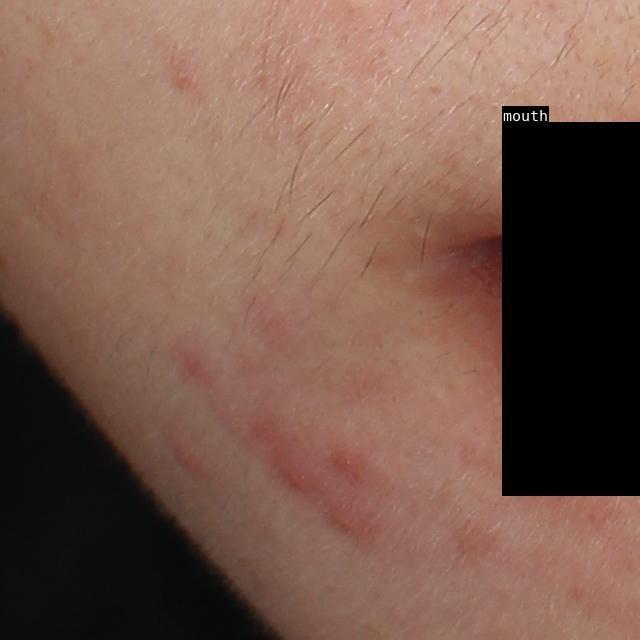atrophic_scar: (424, 81, 450, 100)
papule: (169, 431, 211, 472), (283, 462, 316, 498), (333, 455, 359, 473)
